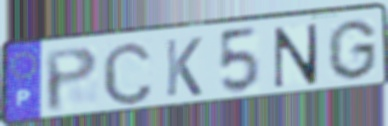5: (217, 23, 263, 98)
C: (100, 39, 156, 108)
G: (325, 18, 379, 82)
K: (163, 35, 204, 99)
N: (271, 21, 321, 90)
P: (42, 44, 101, 115)
